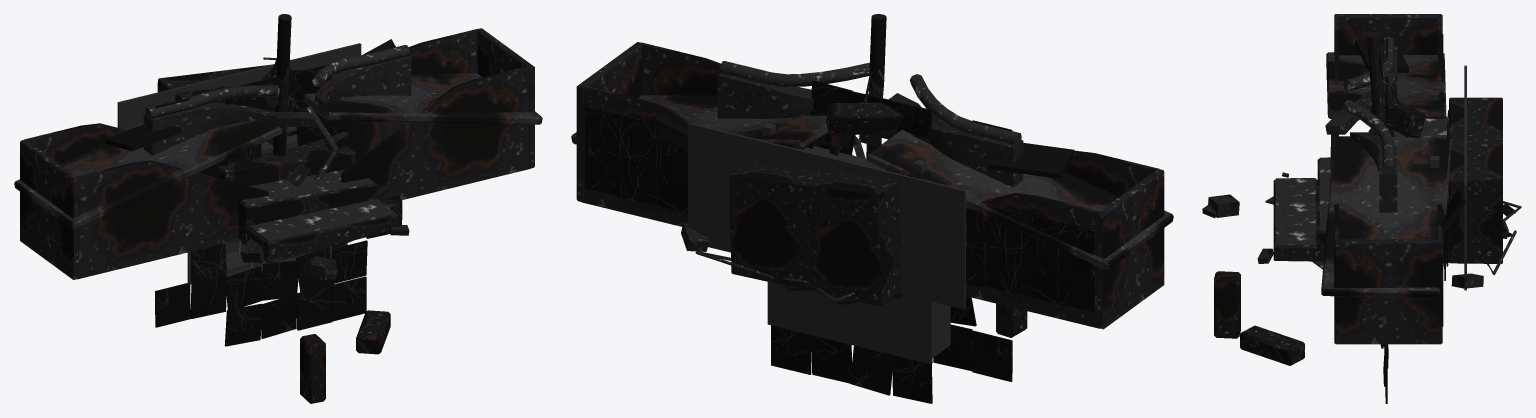
The model's file is venue_damage.glb.
The picture shows the model from 3 angles, left to right: view 1: azimuth 30°, elevation 25°; view 2: azimuth 150°, elevation 25°; view 3: azimuth 270°, elevation 25°; orthographic projection. The views are drawn at different scales.
Parts seen in each view (by area): view 1: CommentaryDesk_Damaged_b-1, CommentaryDesk_Damaged_b1, LedWall_Smashed_tiles, RingSteps_Damaged_steel, BarricadePanel_Damaged_panel, CommentaryDesk_Damaged_top-1, CommentaryDesk_Damaged_top1, RingSteps_Damaged_treads, BarricadePanel_Damaged_frame, RingPost_Damaged_pads, RingApron_Damaged_frame, RingPost_Damaged_post (+3 smaller); view 2: RingSteps_Damaged_steel, CommentaryDesk_Damaged_led, RingApron_Damaged_frame, CommentaryDesk_Damaged_b-1, LedWall_Smashed_tiles, CommentaryDesk_Damaged_b1, LedWall_Smashed_cabinet, CommentaryDesk_Damaged_top-1, BarricadePanel_Damaged_panel, CommentaryDesk_Damaged_top1, BarricadePanel_Damaged_frame, RingPost_Damaged_pads (+5 smaller); view 3: CommentaryDesk_Damaged_top1, CommentaryDesk_Damaged_b1, RingSteps_Damaged_steel, RingPost_Damaged_pads, RingSteps_Damaged_treads, CommentaryDesk_Damaged_top-1, CommentaryDesk_Damaged_b-1, BarricadePanel_Damaged_panel, BarricadePanel_Damaged_frame, Rubble_chunks, RingPost_Damaged_post, CommentaryDesk_Damaged_kit (+4 smaller).
Boxes of the visible parts, x1=… form: CommentaryDesk_Damaged_b-1: x1=20, y1=123, x2=268, y2=279; CommentaryDesk_Damaged_b1: x1=341, y1=28, x2=534, y2=204; LedWall_Smashed_tiles: x1=155, y1=64, x2=402, y2=346; RingSteps_Damaged_steel: x1=157, y1=64, x2=399, y2=263; BarricadePanel_Damaged_panel: x1=143, y1=56, x2=411, y2=177; CommentaryDesk_Damaged_top-1: x1=14, y1=85, x2=282, y2=229; CommentaryDesk_Damaged_top1: x1=291, y1=69, x2=542, y2=124; RingSteps_Damaged_treads: x1=241, y1=169, x2=401, y2=242; BarricadePanel_Damaged_frame: x1=145, y1=45, x2=409, y2=180; RingPost_Damaged_pads: x1=251, y1=60, x2=390, y2=403; RingApron_Damaged_frame: x1=117, y1=43, x2=361, y2=129; RingPost_Damaged_post: x1=273, y1=14, x2=291, y2=156; RingSteps_Damaged_steel: x1=729, y1=163, x2=909, y2=306; CommentaryDesk_Damaged_led: x1=585, y1=106, x2=1094, y2=312; RingApron_Damaged_frame: x1=688, y1=122, x2=965, y2=309; CommentaryDesk_Damaged_b-1: x1=966, y1=150, x2=1164, y2=329; LedWall_Smashed_tiles: x1=771, y1=80, x2=1012, y2=403; CommentaryDesk_Damaged_b1: x1=576, y1=42, x2=852, y2=226; LedWall_Smashed_cabinet: x1=767, y1=146, x2=950, y2=364; CommentaryDesk_Damaged_top-1: x1=867, y1=114, x2=1173, y2=269; BarricadePanel_Damaged_panel: x1=717, y1=73, x2=1023, y2=187; CommentaryDesk_Damaged_top1: x1=571, y1=94, x2=868, y2=149; BarricadePanel_Damaged_frame: x1=719, y1=61, x2=1021, y2=158; RingPost_Damaged_pads: x1=826, y1=72, x2=1027, y2=337; CommentaryDesk_Damaged_top1: x1=1321, y1=136, x2=1452, y2=298; CommentaryDesk_Damaged_b1: x1=1334, y1=204, x2=1442, y2=344; RingSteps_Damaged_steel: x1=1273, y1=97, x2=1502, y2=263; RingPost_Damaged_pads: x1=1214, y1=78, x2=1425, y2=365; RingSteps_Damaged_treads: x1=1275, y1=116, x2=1446, y2=269; CommentaryDesk_Damaged_top-1: x1=1326, y1=52, x2=1446, y2=118; CommentaryDesk_Damaged_b-1: x1=1330, y1=14, x2=1442, y2=170; BarricadePanel_Damaged_panel: x1=1325, y1=46, x2=1397, y2=212; BarricadePanel_Damaged_frame: x1=1343, y1=36, x2=1394, y2=175; Rubble_chunks: x1=1202, y1=172, x2=1508, y2=288; RingPost_Damaged_post: x1=1366, y1=32, x2=1385, y2=135; CommentaryDesk_Damaged_kit: x1=1354, y1=39, x2=1515, y2=238.
Size of the model in its own units: 4.31 by 2.8 by 2.48.
Materials: 11 (9 with a texture image).
